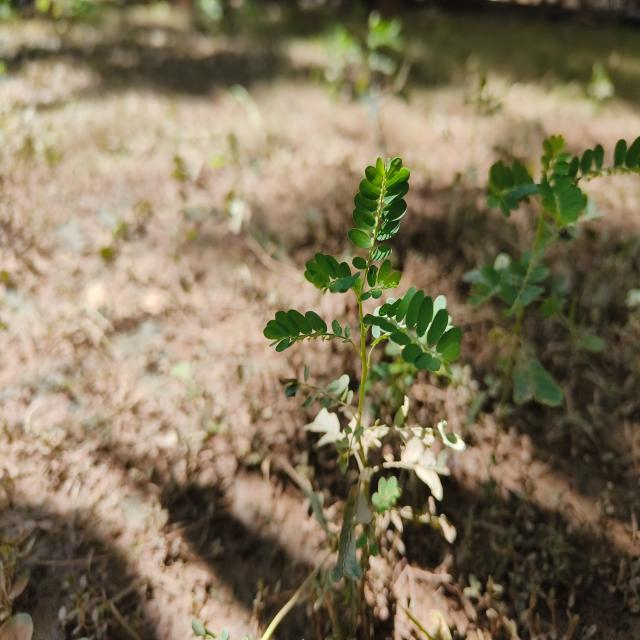weed: (266, 147, 461, 527), (464, 141, 640, 427)
